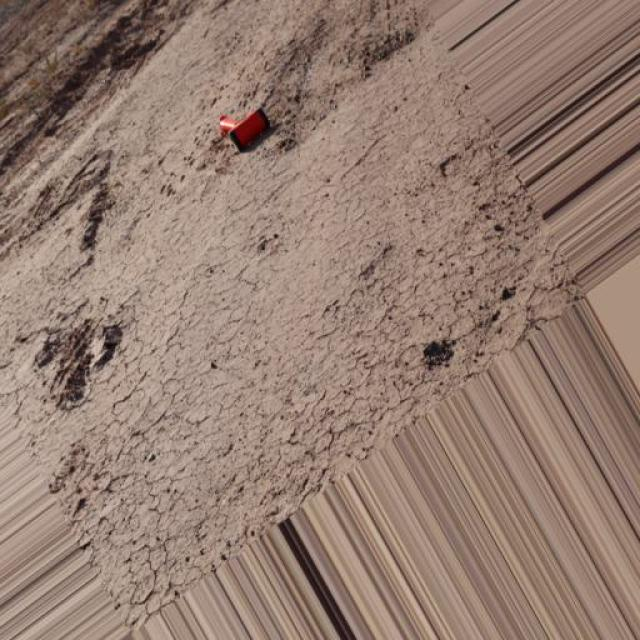mallet: (216, 106, 269, 152)
